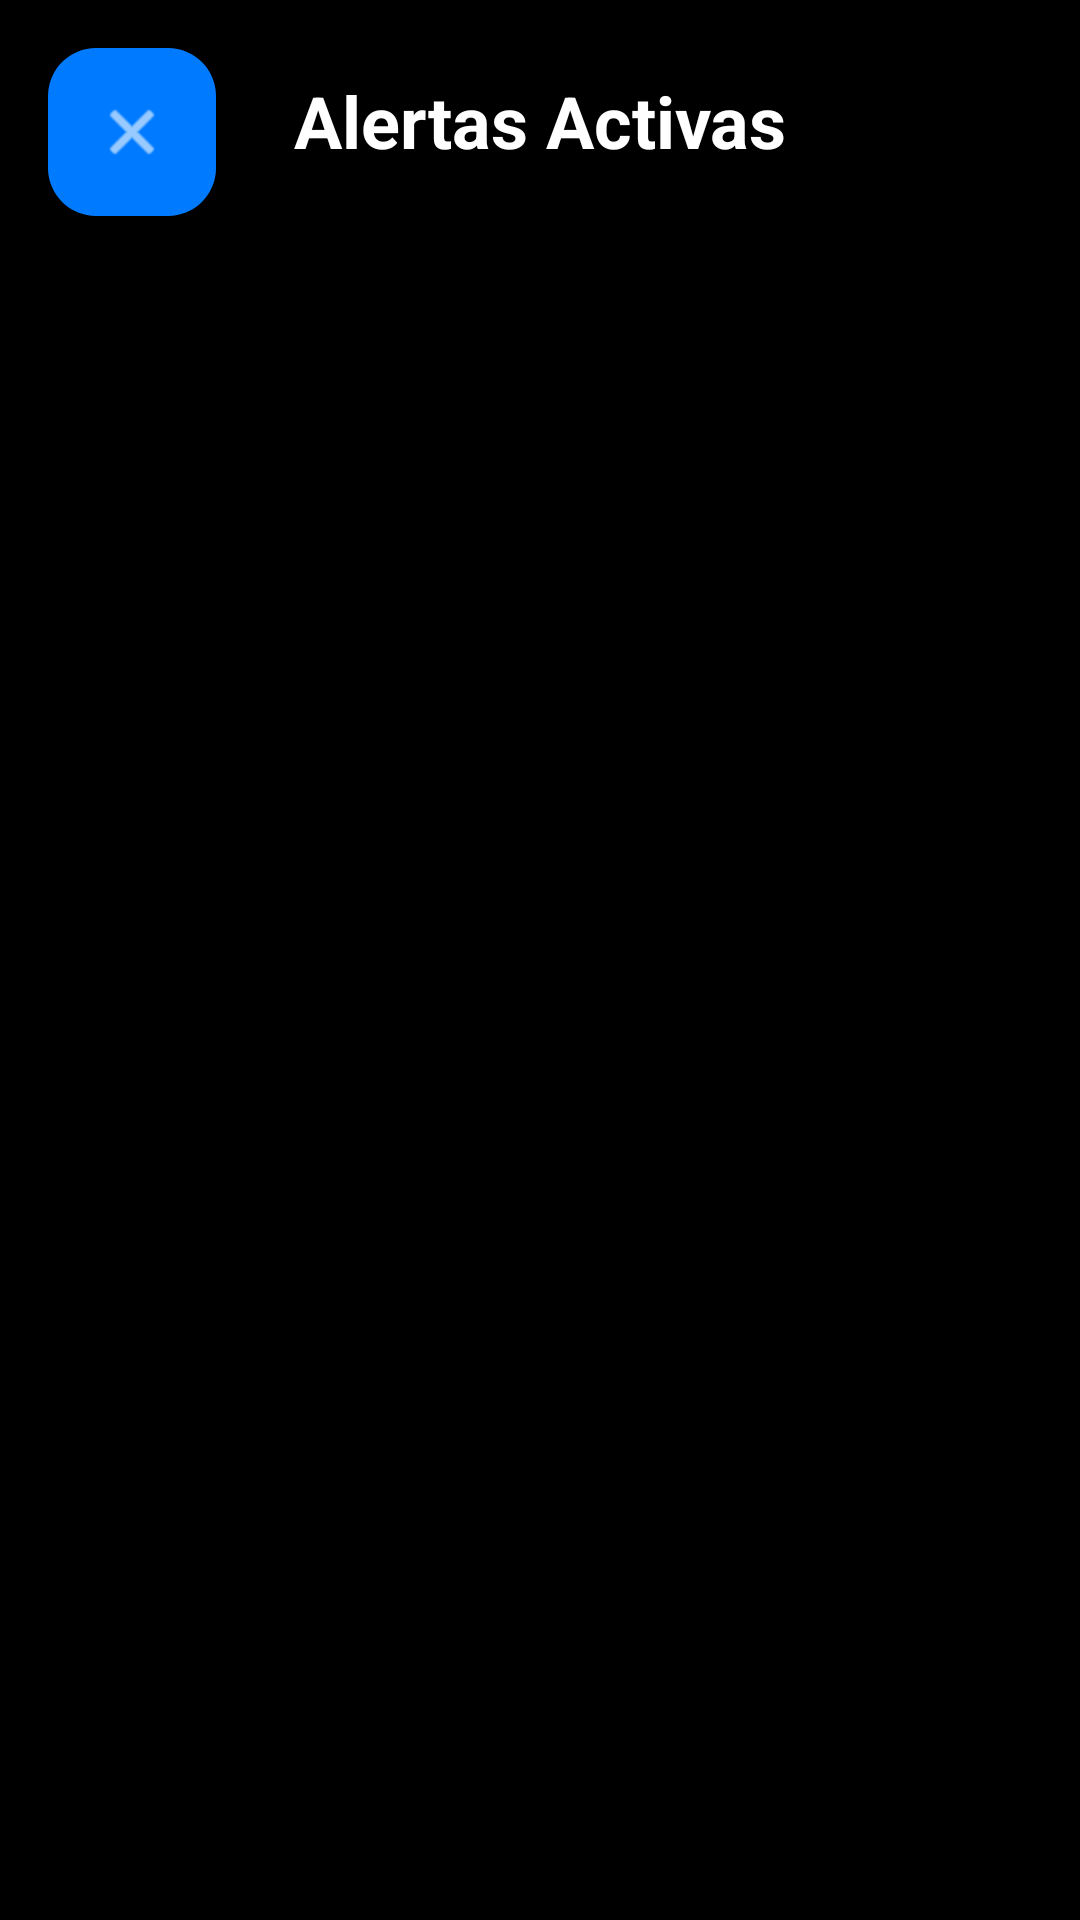

Named icons in this screenshot (1080*1920) and their centers, [x,y]:
Volver: [132,132]
